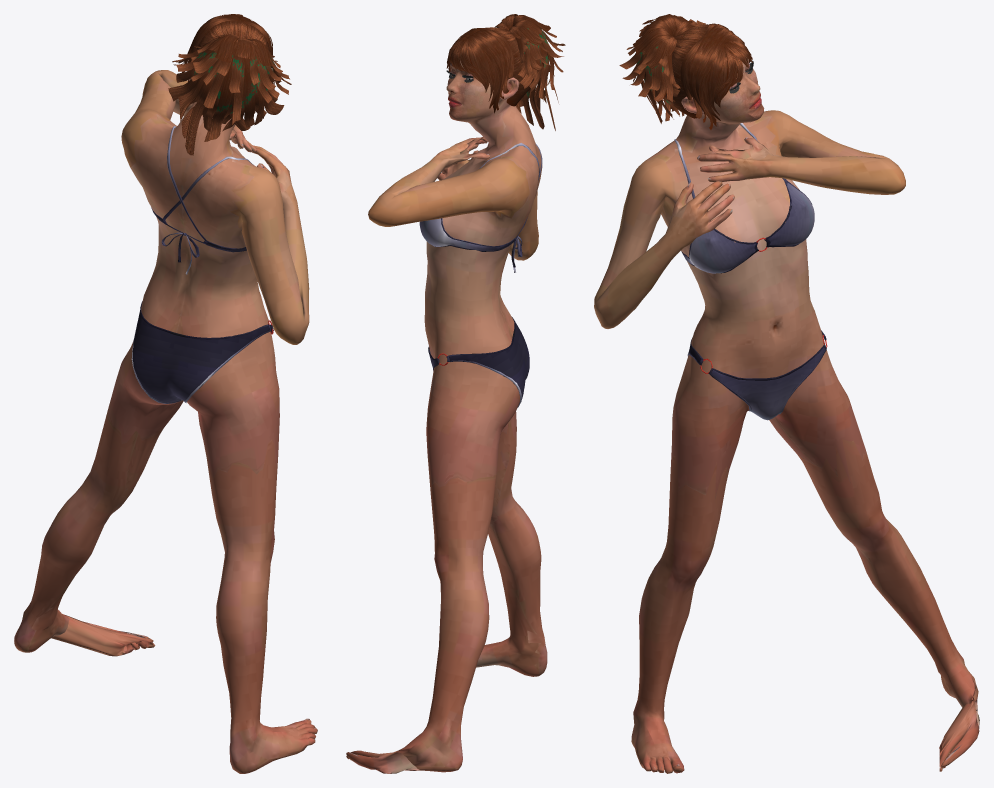
File: bikini_jde.glb
3 renders of one model, left to right at view 1: azimuth 30°, elevation 25°; view 2: azimuth 150°, elevation 25°; view 3: azimuth 270°, elevation 25°, orthographic. The views are drawn at different scales.
Bounding box in the file's own units: 0.3806 × 1.68 × 0.8053.
Materials: 13 (7 with a texture image).
